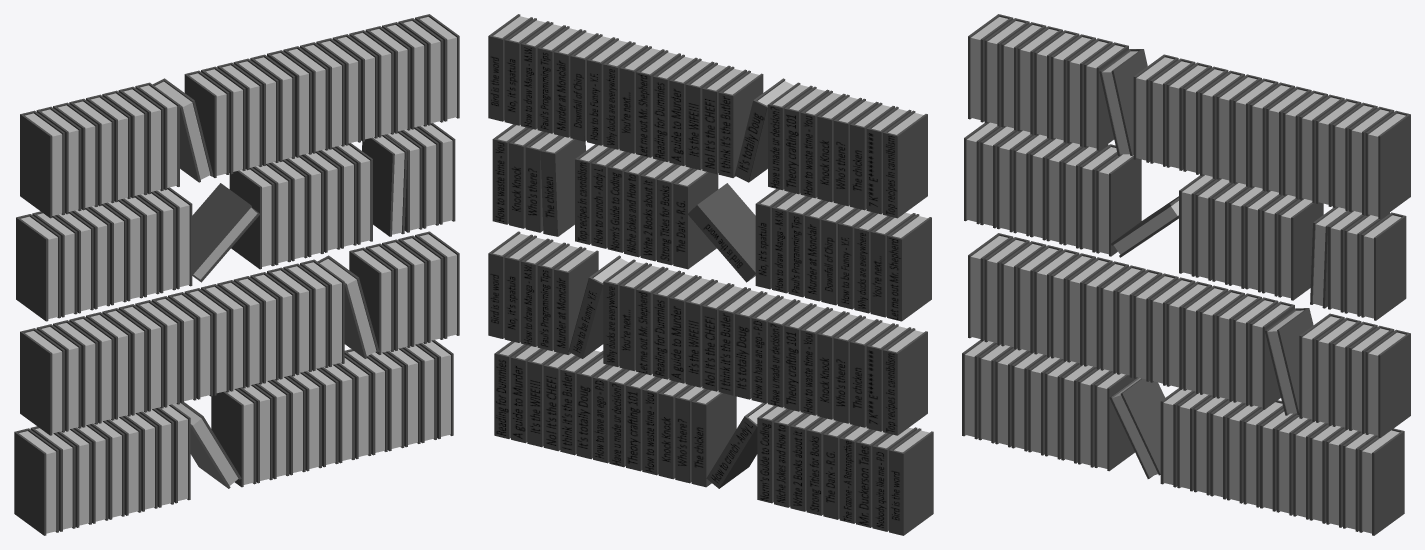
The model's file is BooksModel.fbx.
3 views of the same model, side by side, from view 1: azimuth 30°, elevation 25°; view 2: azimuth 150°, elevation 25°; view 3: azimuth 330°, elevation 25° (orthographic).
Visible parts, largest first — view 1: BooksModel; view 2: BooksModel; view 3: BooksModel.
Boxes of the visible parts, x1,y1,x2,y2 form: BooksModel: [14, 14, 459, 535]; BooksModel: [488, 14, 933, 535]; BooksModel: [962, 14, 1410, 535].
Bounding box in the file's own units: 177 × 162 × 22.26.
